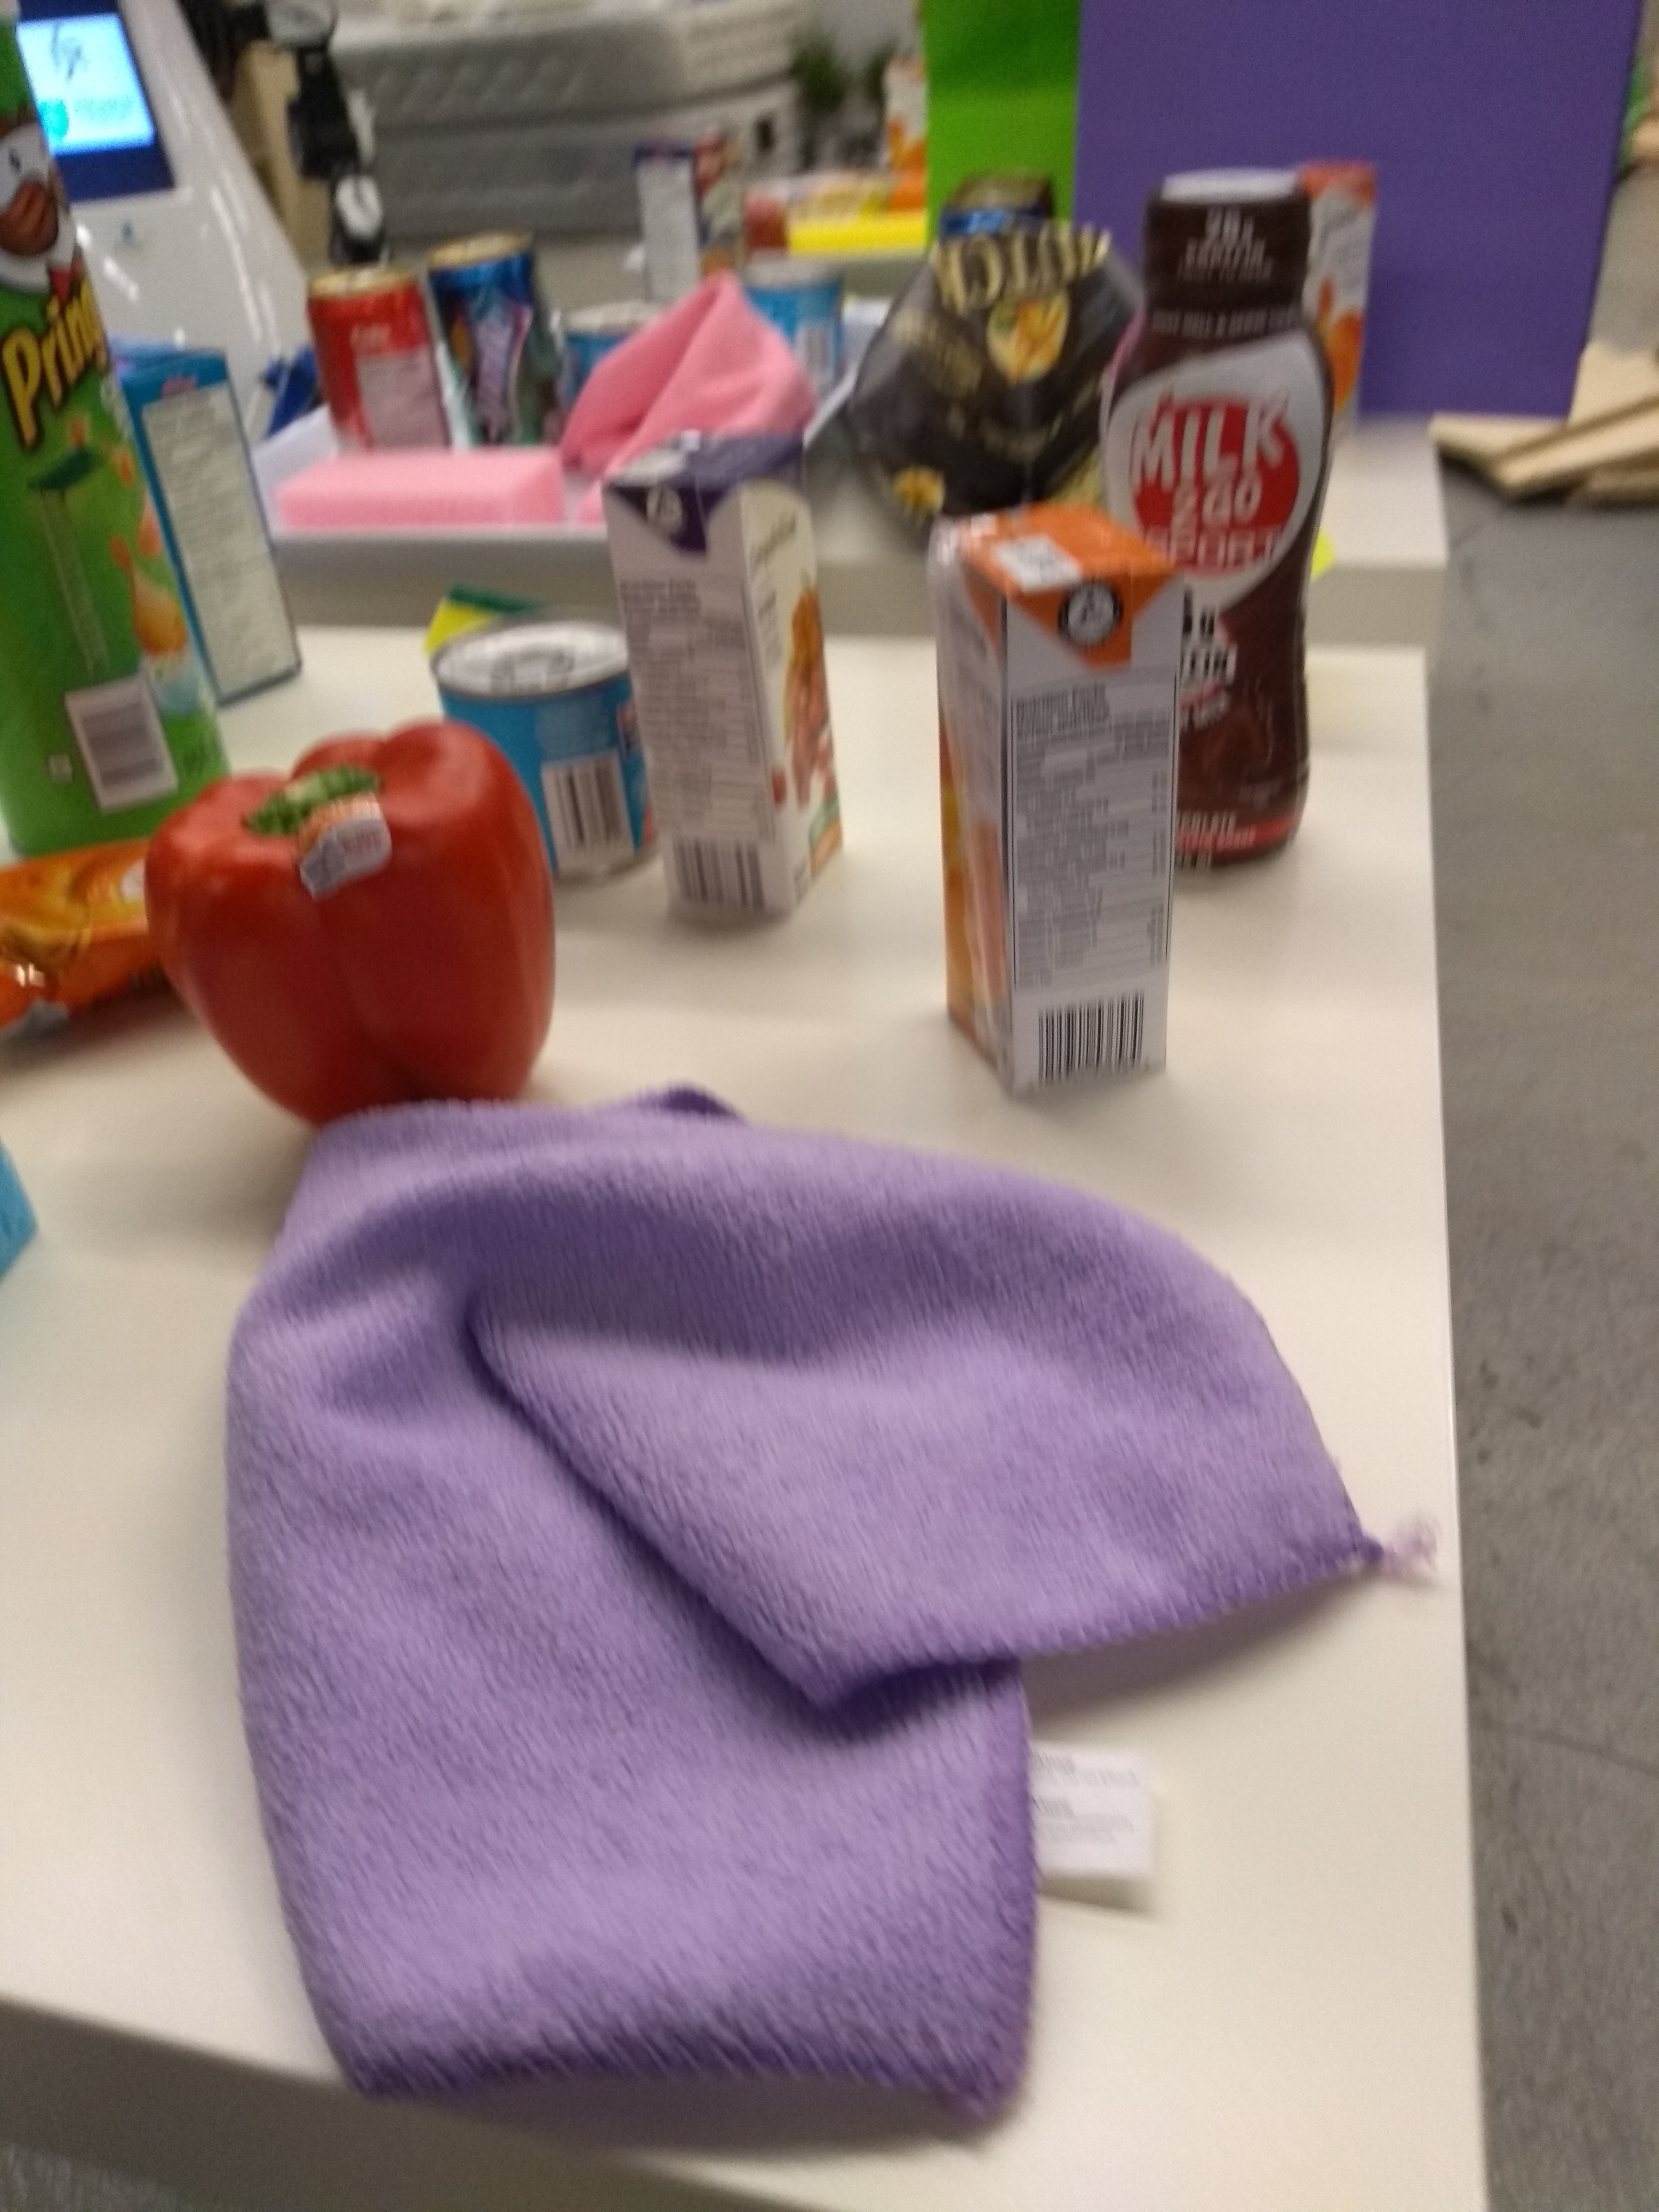cereal: (117, 333, 303, 723)
chocolate_drink: (1112, 162, 1323, 894)
cloth_opl: (234, 1078, 1455, 2141)
coke: (298, 260, 455, 472)
grape_juice: (608, 428, 856, 951)
orange_juice: (922, 484, 1182, 1104)
paprika: (143, 718, 565, 1120)
pringles: (2, 5, 197, 866)
sausages: (439, 624, 653, 876)
sprite: (425, 228, 579, 456)
